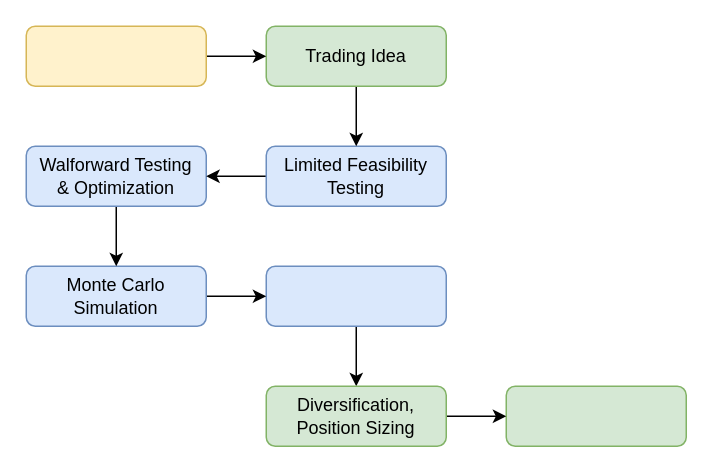
This 713x473 diagram has some shape labels left out. Each missing label, with the box of its shape:
Full Size, Real Money Operation: (505, 385, 686, 446)
Incubation: (265, 265, 446, 326)
Performance Goals & Objectives: (25, 25, 206, 86)
